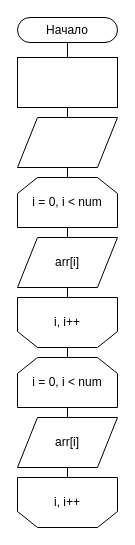
Some shapes in this 135 by 545 pixel diagram are drawn without their labels. The shapes that lost their labels are listed below. From the top down, each one's centre as x and y in pixels, then its label:
point (67, 82): arr[100], num
point (67, 142): num
